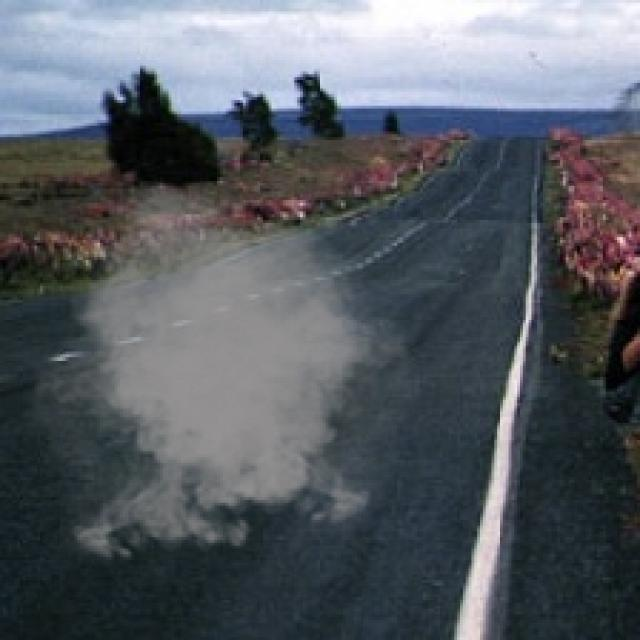Smoke: (11, 179, 432, 572)
